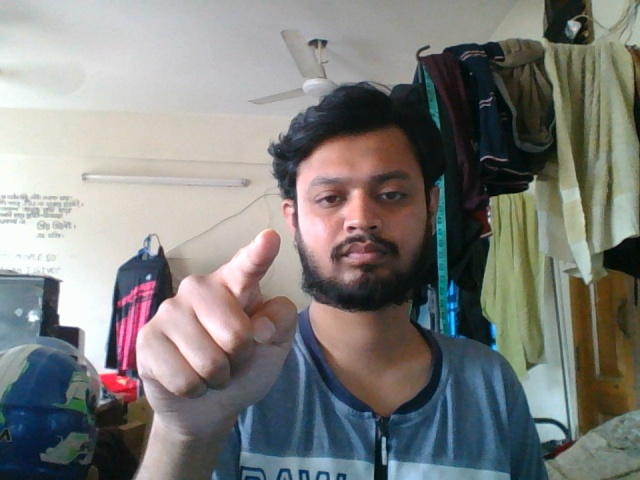tumi: (130, 225, 310, 442)
